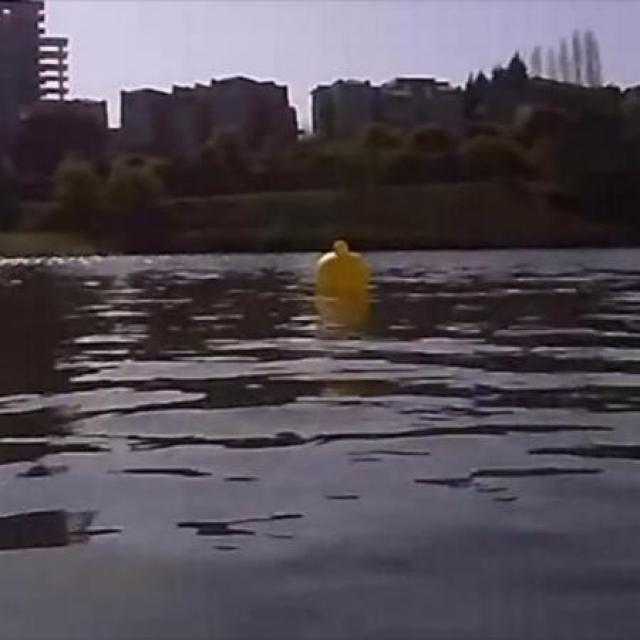buoy: (315, 244, 366, 289)
